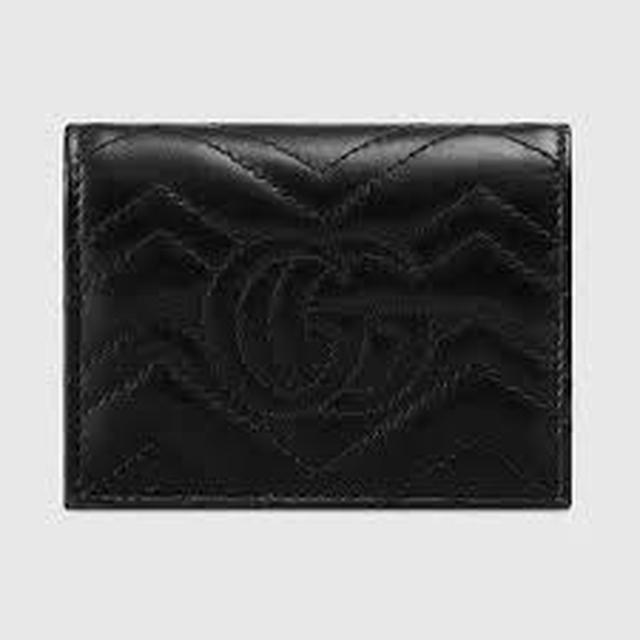wallet: (38, 118, 586, 526)
